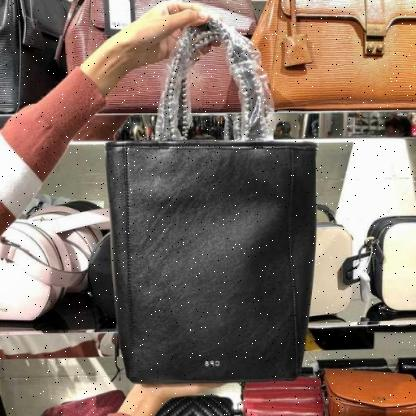bag: (96, 10, 328, 394)
